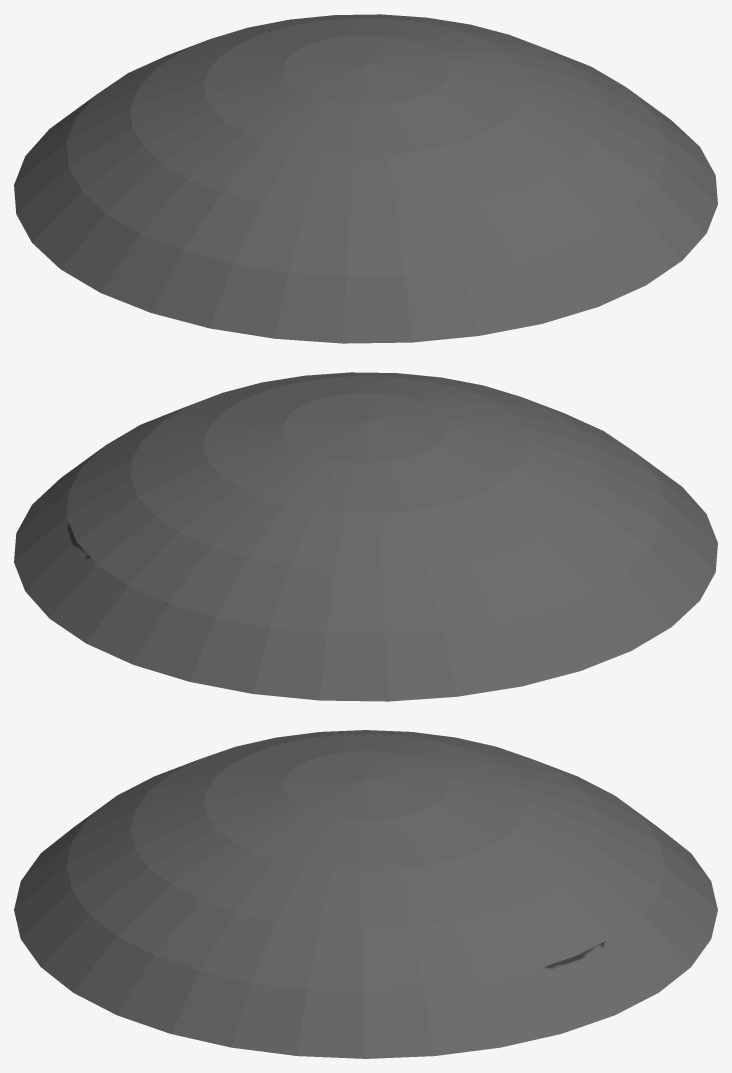
File: enemyMiniRobotBreak01.obj
The picture shows the model from 3 angles, top to bottom: view 1: azimuth 30°, elevation 25°; view 2: azimuth 150°, elevation 25°; view 3: azimuth 270°, elevation 25°; orthographic projection.
Parts seen in each view (by area): view 1: 球; view 2: 球; view 3: 球.
Part boxes in pixels (left/top/right/bottom): 球: left=14, top=14, right=717, bottom=343; 球: left=14, top=372, right=717, bottom=701; 球: left=14, top=730, right=717, bottom=1058.
Bounding box in the file's own units: 1.97 × 0.4021 × 1.97.
1 material, 1 textured.
